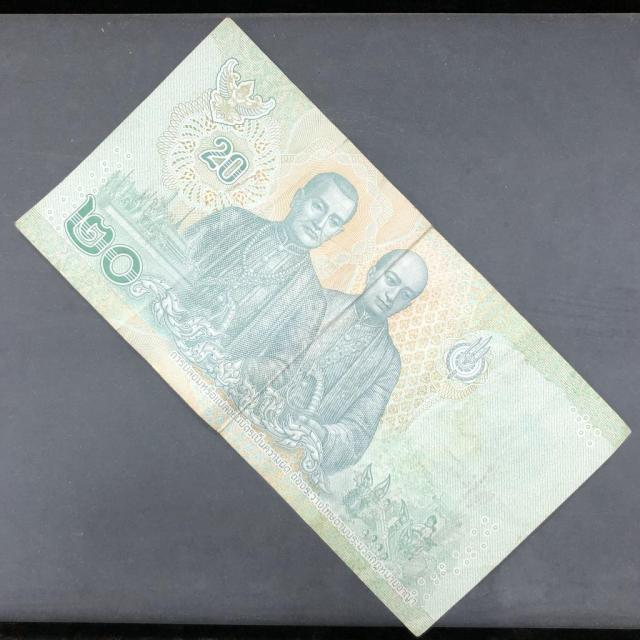THAI20: (17, 18, 629, 634)
